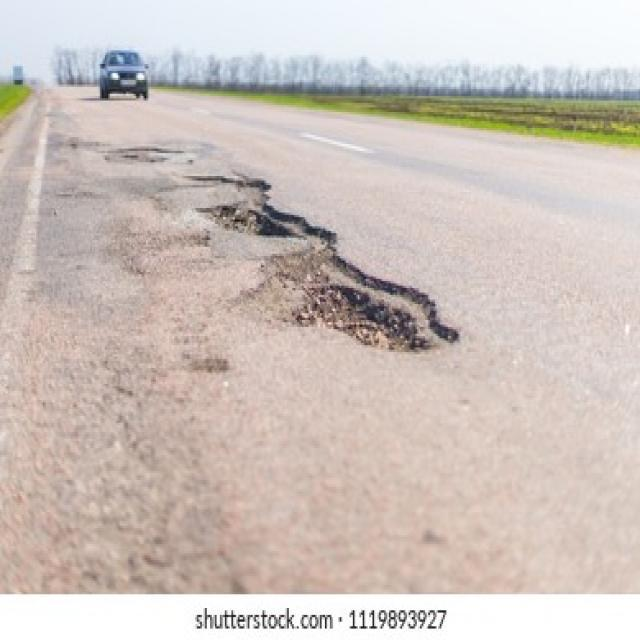Pothole: (229, 242, 462, 354), (195, 197, 338, 250), (183, 174, 274, 196), (104, 146, 185, 162)
